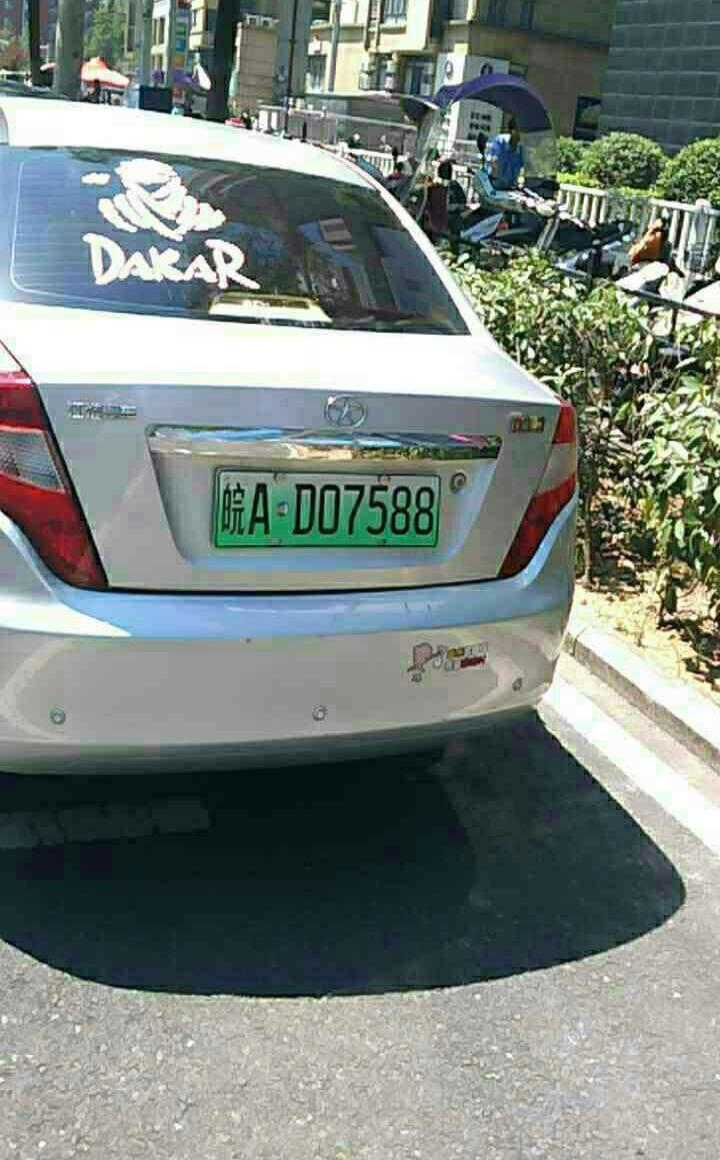car_id: (211, 470, 442, 547)
